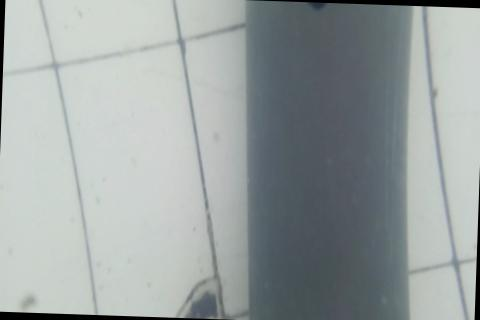kebocoran: (306, 2, 328, 13)
